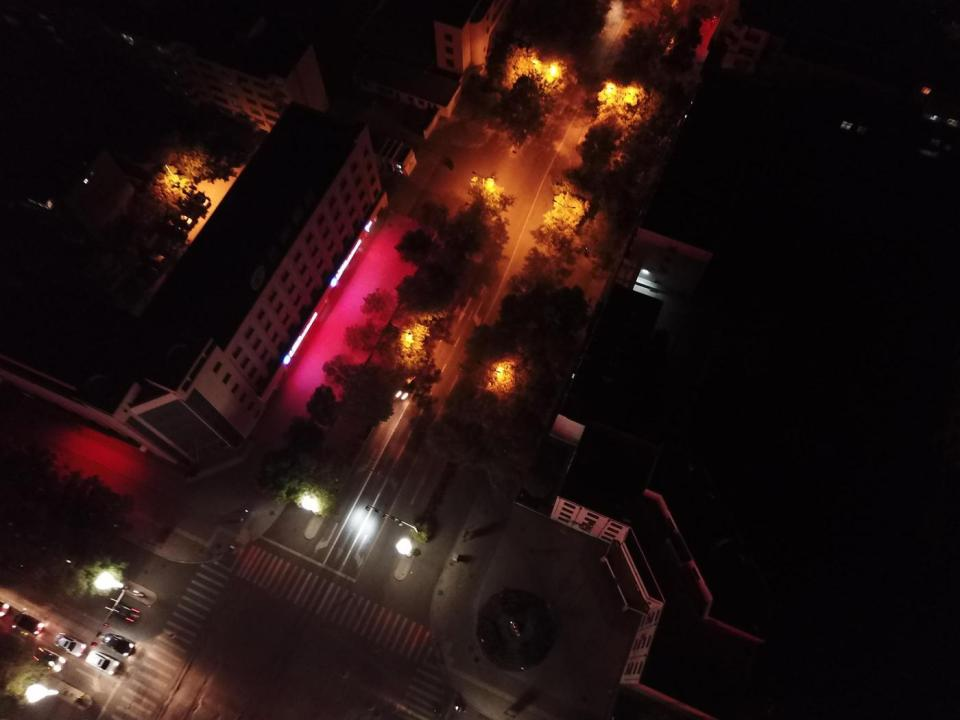car: (106, 598, 141, 623), (53, 632, 88, 657), (101, 633, 136, 656), (34, 647, 66, 672), (86, 651, 120, 674), (10, 614, 45, 636), (395, 375, 417, 401), (156, 227, 188, 243), (166, 212, 194, 229), (185, 190, 209, 209)
van: (138, 252, 169, 270)
